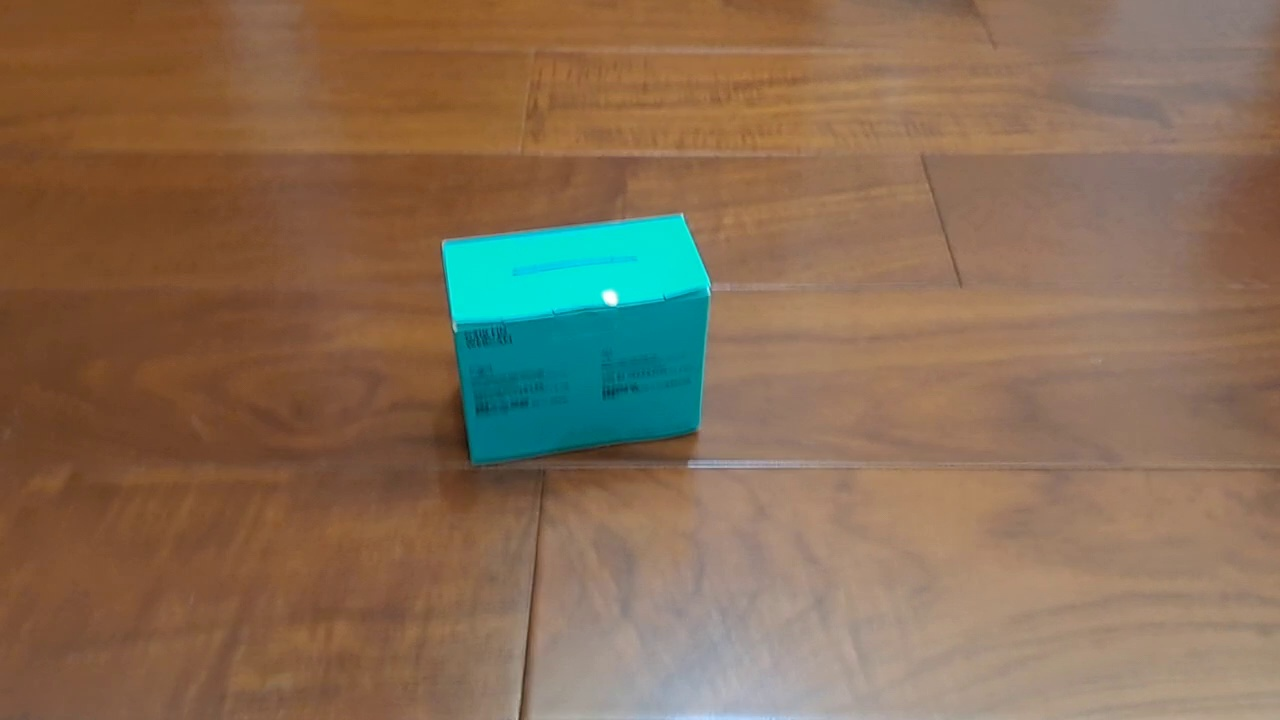webcam: (439, 212, 712, 468)
